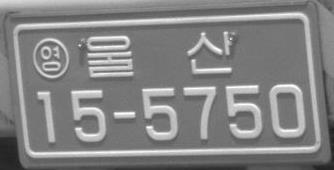-: (112, 108, 136, 123)
0: (268, 82, 306, 138)
1: (32, 90, 65, 142)
5: (224, 83, 262, 140), (69, 88, 107, 143), (140, 87, 178, 141)
7: (181, 85, 217, 140)
영: (32, 37, 70, 79)
울산_D: (86, 30, 235, 77)
